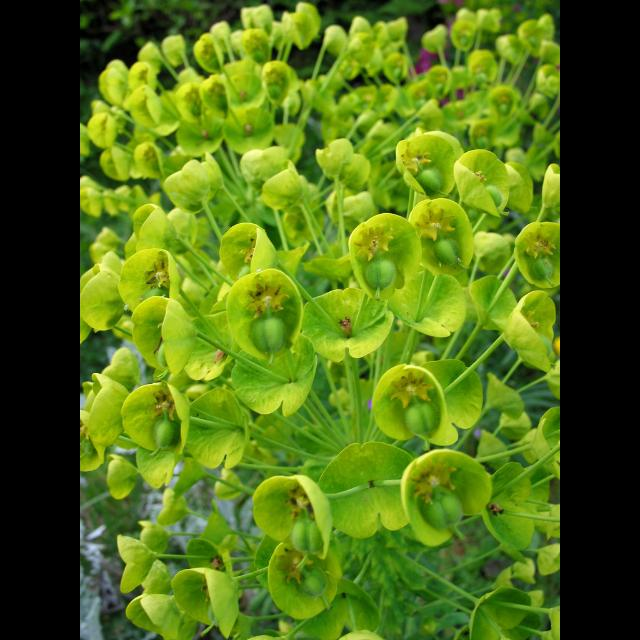Flower: (80, 1, 560, 640), (255, 473, 328, 547)
